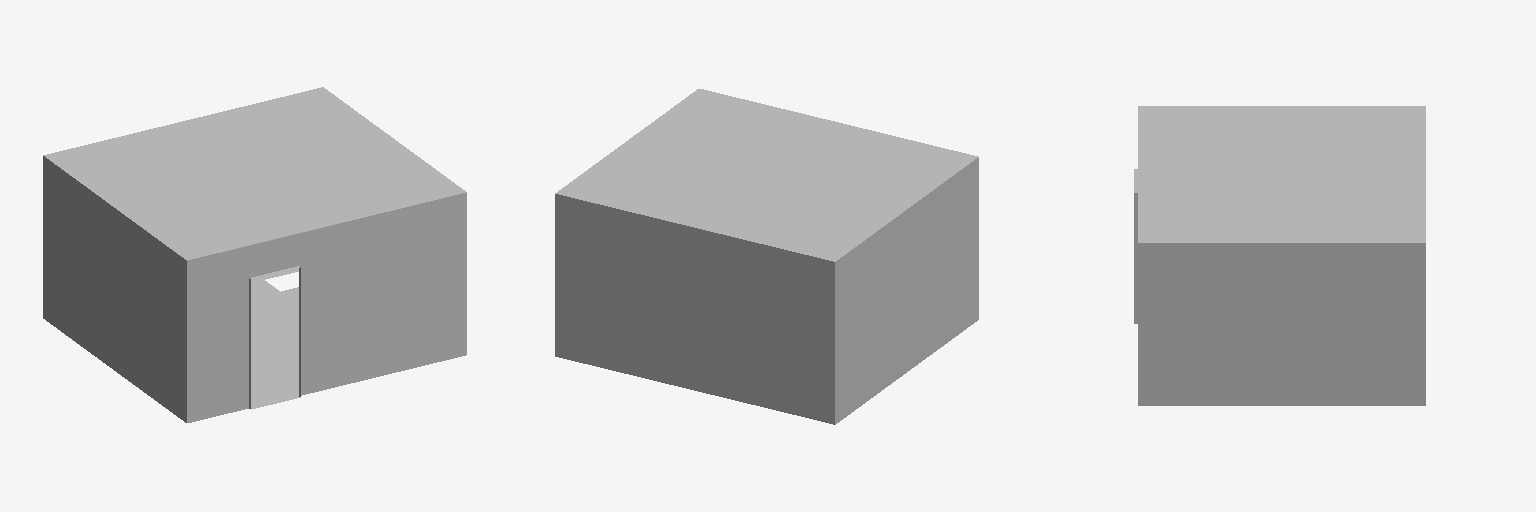
The model's file is hor1 toilet2.obj.
3 renders of one model, left to right at view 1: azimuth 30°, elevation 25°; view 2: azimuth 150°, elevation 25°; view 3: azimuth 270°, elevation 25°, orthographic.
Visible parts, largest first — view 1: toilet_2_Plane.031; view 2: toilet_2_Plane.031; view 3: toilet_2_Plane.031.
Boxes of the visible parts, x1=… form: toilet_2_Plane.031: x1=43, y1=87, x2=466, y2=422; toilet_2_Plane.031: x1=555, y1=89, x2=978, y2=424; toilet_2_Plane.031: x1=1134, y1=106, x2=1425, y2=405.
Bounding box in the file's own units: 4.5 × 2.5 × 4.05.